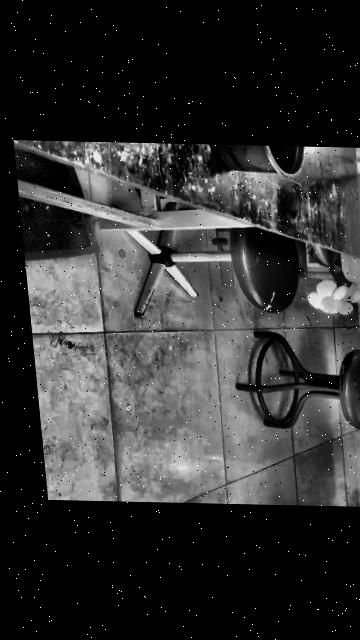pot: (204, 144, 306, 175)
